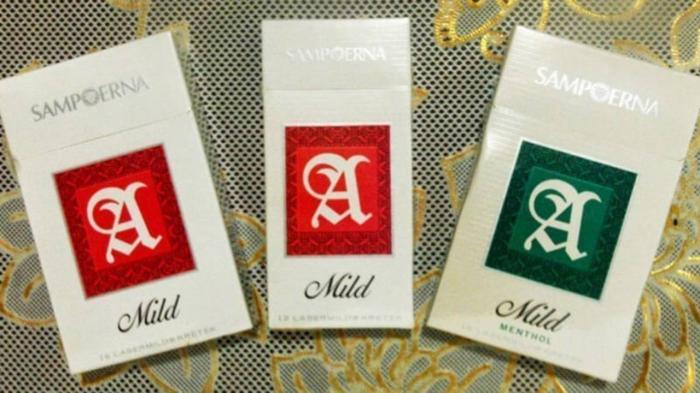A Mild: (21, 155, 251, 375), (266, 91, 410, 327)
